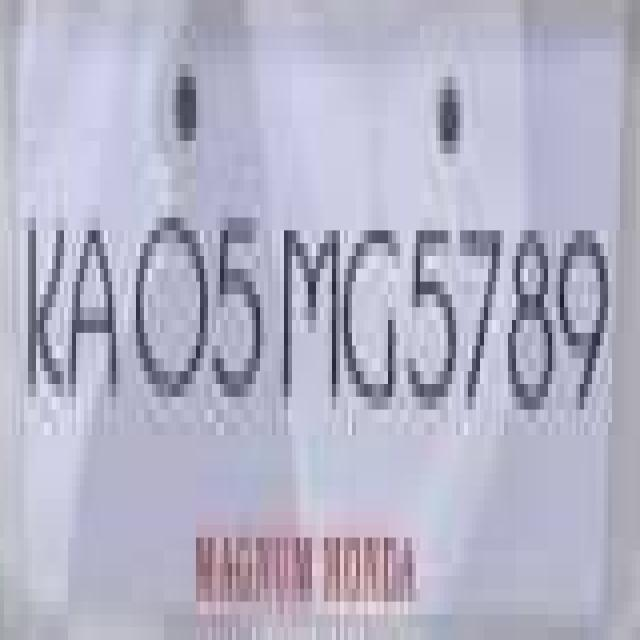plate: (20, 13, 640, 589)
